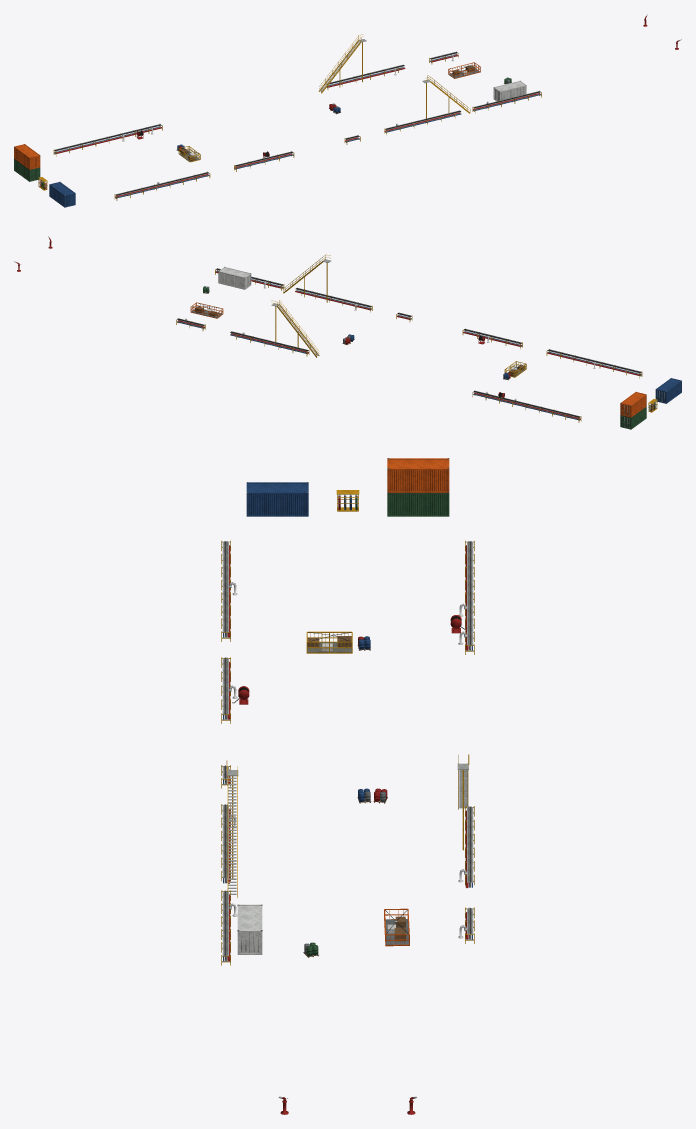
The model's file is equipamentos.glb.
3 renders of one model, top to bottom at view 1: azimuth 30°, elevation 25°; view 2: azimuth 150°, elevation 25°; view 3: azimuth 270°, elevation 25°, orthographic. The views are drawn at different scales.
Visible parts, largest first — view 1: Equipamentos; view 2: Equipamentos; view 3: Equipamentos.
Part boxes in pixels (box(x1,y1,x2,y2)): Equipamentos: box(14, 14, 681, 207); Equipamentos: box(14, 236, 681, 429); Equipamentos: box(221, 458, 474, 1114).
Size of the model in its own units: 141 by 10.1 by 24.81.
10 materials, 9 textured.
